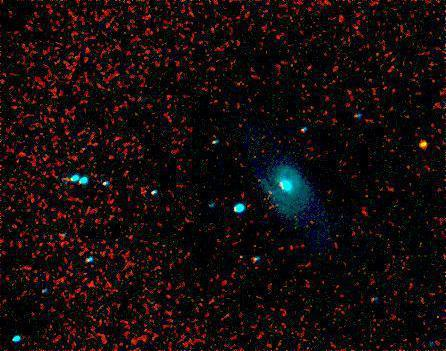star: (407, 130, 437, 160)
